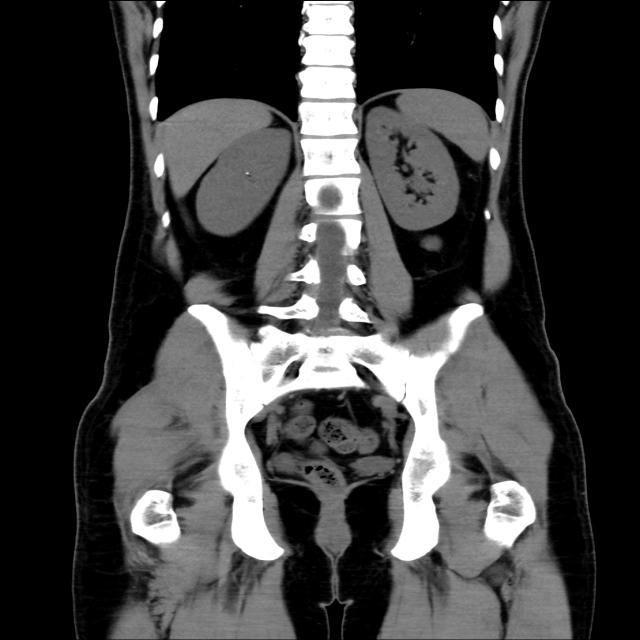kidneystone: (245, 171, 250, 176)
